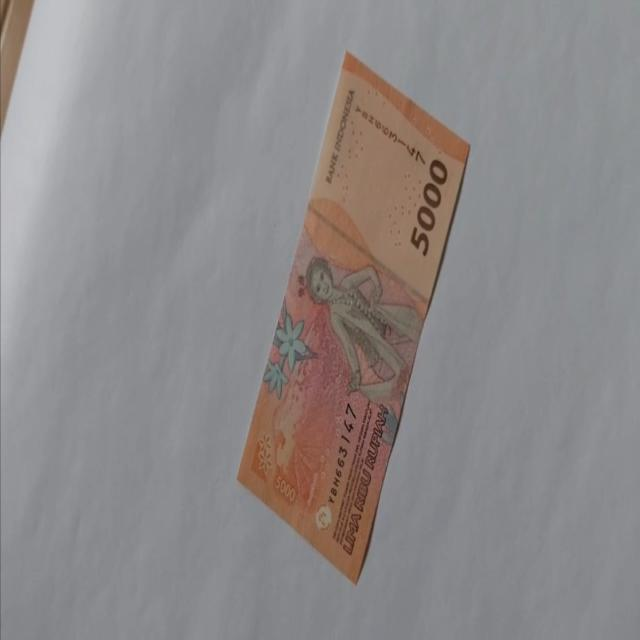lima ribu rupiah: (235, 49, 470, 585)
